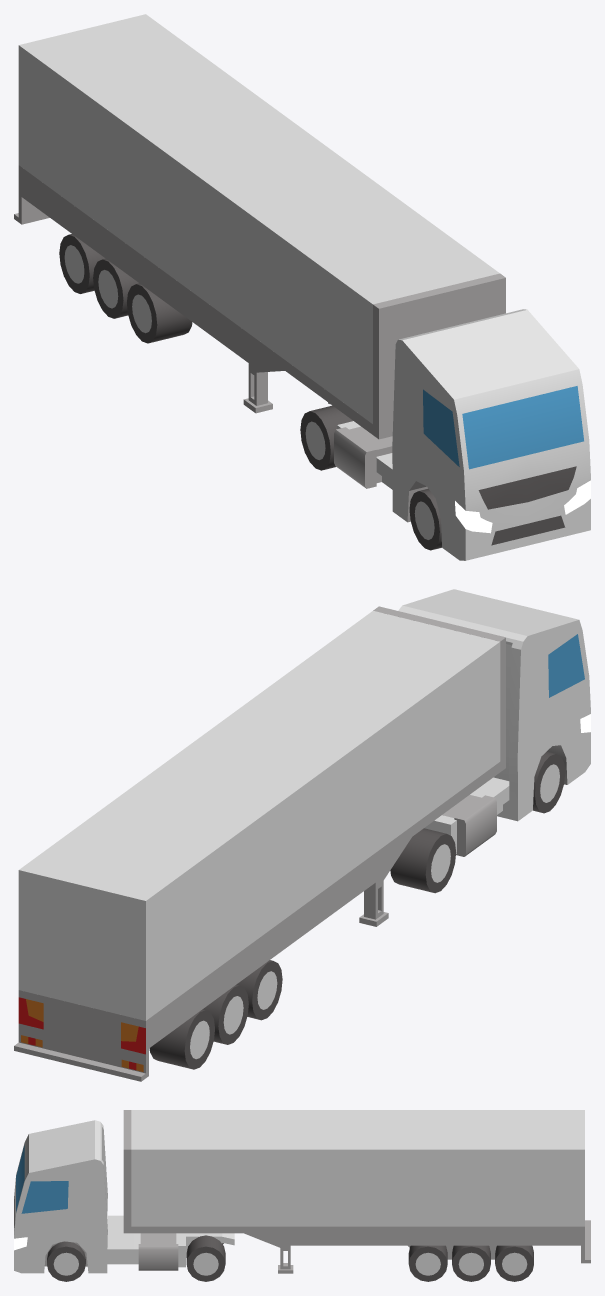
File: truck.glb
3 renders of one model, top to bottom at view 1: azimuth 30°, elevation 25°; view 2: azimuth 150°, elevation 25°; view 3: azimuth 270°, elevation 25°, orthographic. The views are drawn at different scales.
Visible parts, largest first — view 1: Trailer, Truck; view 2: Trailer, Truck; view 3: Trailer, Truck.
Part boxes in pixels (x1=…): Trailer: x1=14, y1=14, x2=505, y2=439; Truck: x1=300, y1=309, x2=590, y2=560; Trailer: x1=14, y1=606, x2=505, y2=1081; Truck: x1=390, y1=589, x2=590, y2=893; Trailer: x1=123, y1=1110, x2=590, y2=1281; Truck: x1=14, y1=1120, x2=234, y2=1281.
Size of the model in its own units: 10.68 by 15.9 by 62.78.
